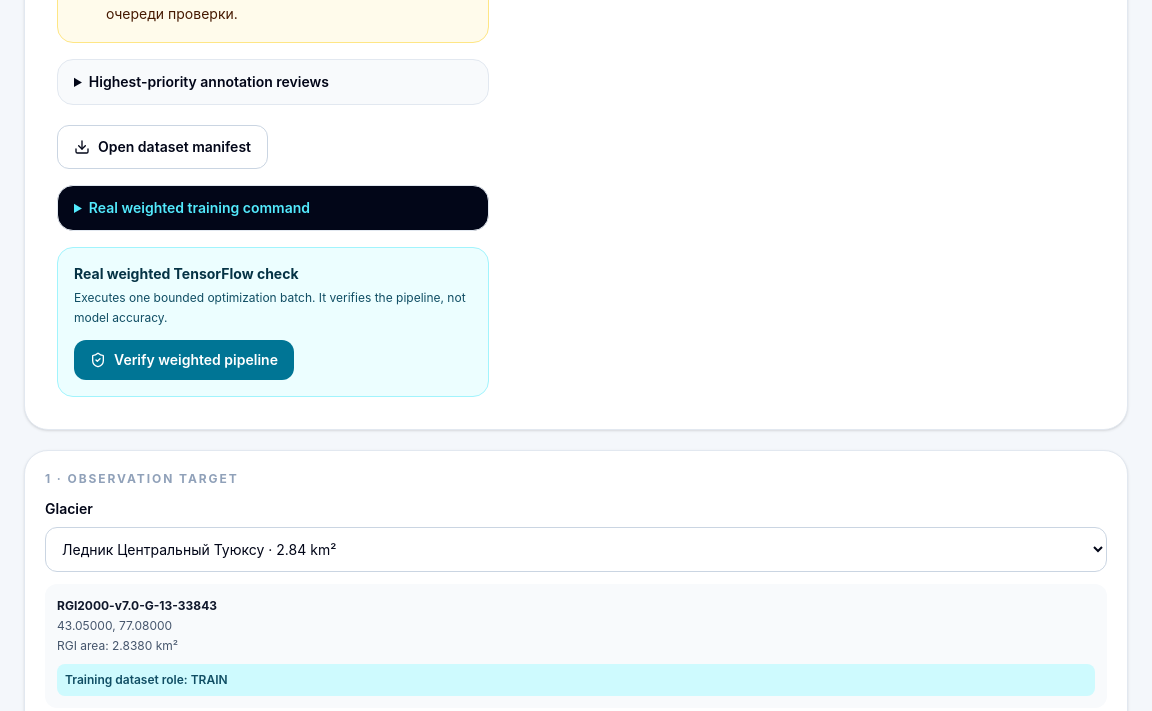
Test: ML Workspace › runs a real weighted pipeline check and labels it as compatibility evidence
(page scrolled)
Click the button "Verify weighted pipeline" at (184, 360), box [74, 340, 294, 380]
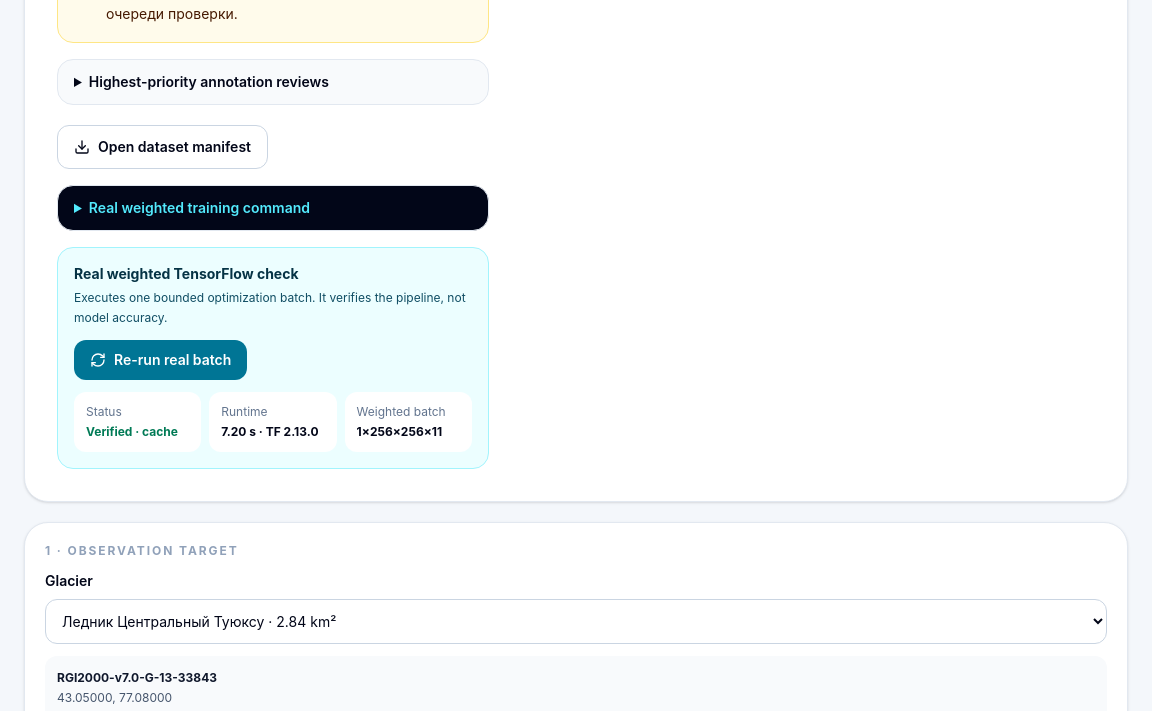
Check: the text "Verified · cache" is shown, box [86, 424, 189, 440]
Check: the text "7.20 s · TF 2.13.0" is shown, box [221, 424, 325, 440]
Check: the text "1×256×256×11" is shown, box [357, 424, 442, 439]
